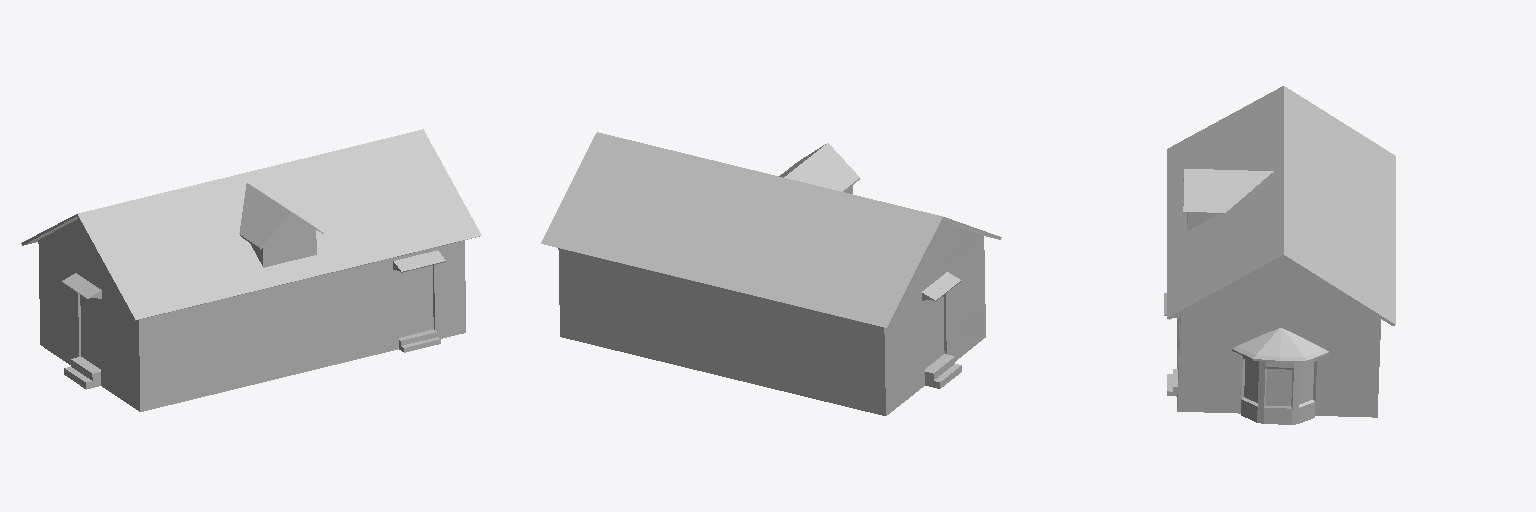
File: cottage_blender.obj
3 renders of one model, left to right at view 1: azimuth 30°, elevation 25°; view 2: azimuth 150°, elevation 25°; view 3: azimuth 270°, elevation 25°, orthographic.
Visible parts, largest first — view 1: Cube_Cube.002; view 2: Cube_Cube.002; view 3: Cube_Cube.002.
Boxes of the visible parts, <box> form: Cube_Cube.002: <box>21,129,481,411</box>; Cube_Cube.002: <box>541,132,1001,415</box>; Cube_Cube.002: <box>1164,86,1395,424</box>.
Size of the model in its own units: 3.11 by 1.37 by 1.72.